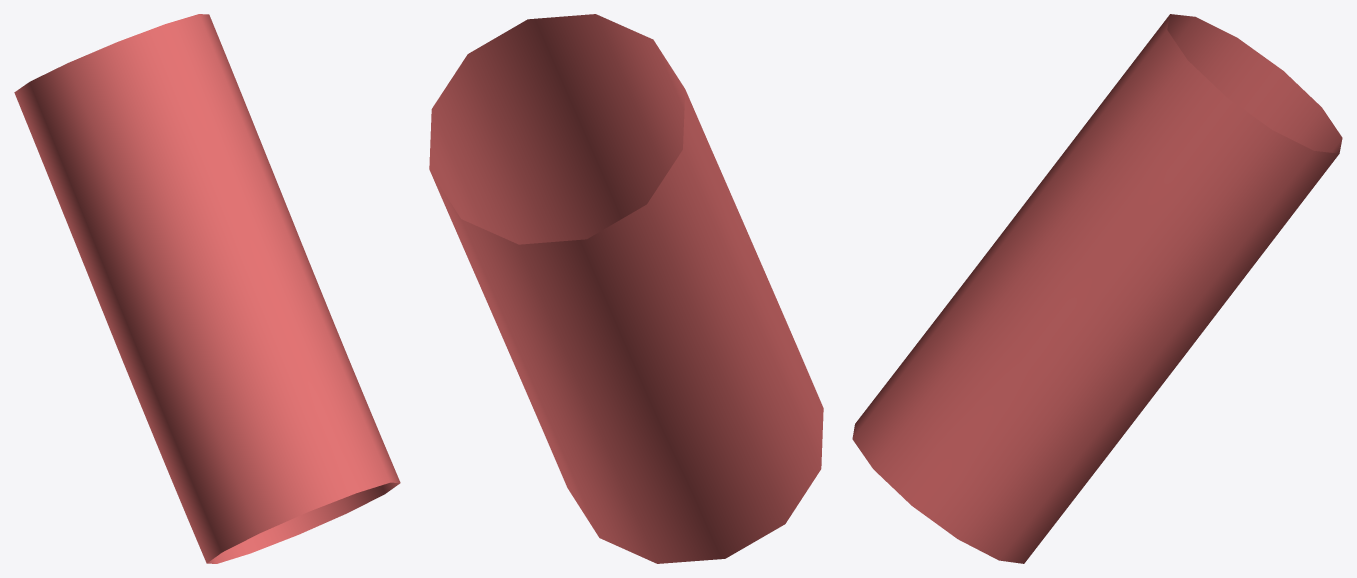
The model's file is Thoraco-acromial_artery.l_BezierCurve.169.glb.
3 renders of one model, left to right at view 1: azimuth 30°, elevation 25°; view 2: azimuth 150°, elevation 25°; view 3: azimuth 270°, elevation 25°, orthographic. The views are drawn at different scales.
Parts seen in each view (by area): view 1: Thoraco-acromial_artery.l_BezierCurve.169; view 2: Thoraco-acromial_artery.l_BezierCurve.169; view 3: Thoraco-acromial_artery.l_BezierCurve.169.
Part boxes in pixels (x1,y1,x2,y2): Thoraco-acromial_artery.l_BezierCurve.169: (14, 14, 400, 563); Thoraco-acromial_artery.l_BezierCurve.169: (429, 14, 823, 563); Thoraco-acromial_artery.l_BezierCurve.169: (852, 14, 1342, 563).
Bounding box in the file's own units: 0.00486 × 0.0101 × 0.00885.
